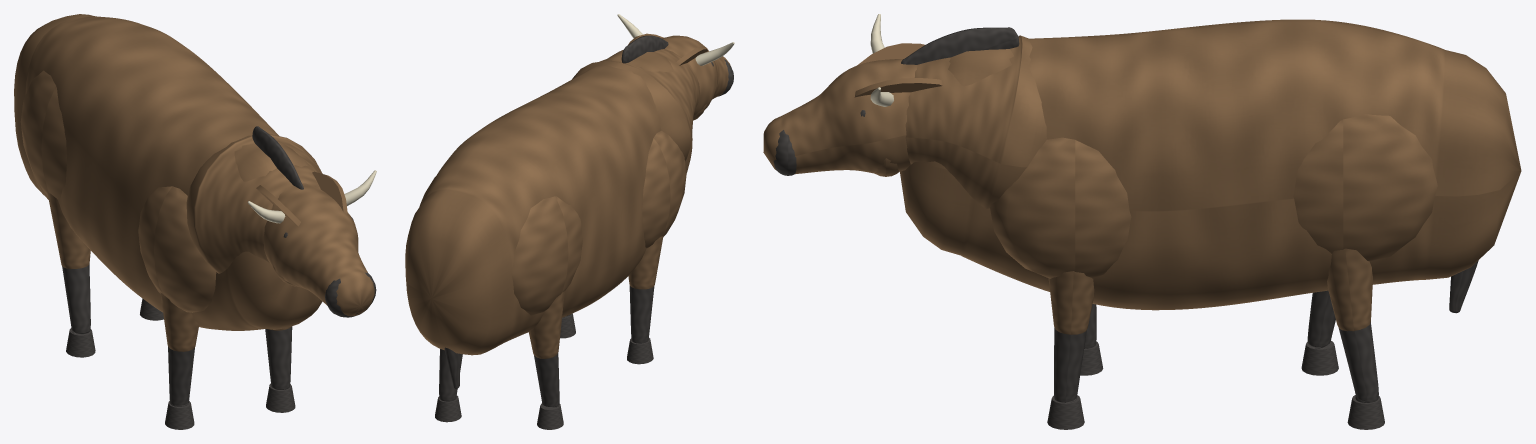
File: farm-and-working-animals-hd-beef-bull-f33f6500__29186.glb
3 renders of one model, left to right at view 1: azimuth 30°, elevation 25°; view 2: azimuth 150°, elevation 25°; view 3: azimuth 270°, elevation 25°, orthographic. The views are drawn at different scales.
Visible parts, largest first — view 1: beef-bull; view 2: beef-bull; view 3: beef-bull.
Boxes of the visible parts, x1,y1,x2,y2 form: beef-bull: [14, 14, 376, 429]; beef-bull: [405, 14, 734, 429]; beef-bull: [763, 14, 1521, 429].
Size of the model in its own units: 0.7994 by 1.54 by 2.89.
Materials: 3 (2 with a texture image).
